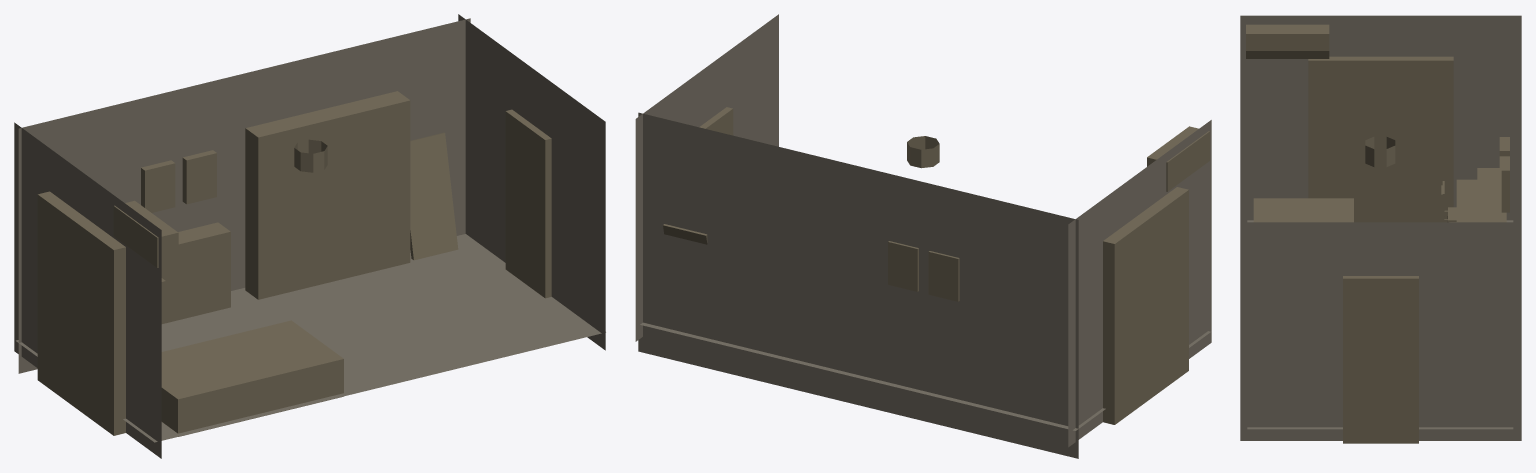
Rendered from homebedroom.fbx.
3 views of the same model, side by side, from view 1: azimuth 30°, elevation 25°; view 2: azimuth 150°, elevation 25°; view 3: azimuth 270°, elevation 25° (orthographic). The views are drawn at different scales.
Visible parts, largest first — view 1: pPlane54, pPlane53, pPlane60, pPlane64, pPlane57, pPlane56, pPlane55, pPlane63, pPlane58, pPlane62, pCylinder80, pPlane61 (+2 smaller); view 2: pPlane54, pPlane57, pPlane56, pPlane64, pCylinder80, pPlane53, pPlane59, pPlane61, pCylinder79, pPlane63; view 3: pPlane64, pPlane56, pPlane57, pPlane63, pCylinder80, pPlane55, pPlane60, polySurface58, pCylinder79, pPlane53, pPlane61.
Boxes of the visible parts, x1,y1,x2,y2 form: pPlane54: (18, 18, 470, 373); pPlane53: (16, 234, 605, 442); pPlane60: (245, 91, 410, 299); pPlane64: (458, 14, 605, 350); pPlane57: (37, 191, 125, 435); pPlane56: (14, 122, 161, 458); pPlane55: (161, 320, 343, 436); pPlane63: (505, 109, 551, 298); pPlane58: (161, 222, 230, 323); pPlane62: (410, 132, 458, 260); pCylinder80: (113, 200, 178, 267); pPlane61: (182, 150, 216, 204); pPlane54: (638, 112, 1078, 458); pPlane57: (1103, 187, 1188, 424); pPlane56: (1068, 120, 1211, 447); pPlane64: (635, 14, 778, 341); pCylinder80: (1147, 126, 1209, 191); pPlane53: (640, 322, 1210, 430); pPlane59: (928, 251, 959, 301); pPlane61: (888, 241, 918, 291); pCylinder79: (907, 136, 939, 168); pPlane63: (699, 107, 733, 135); pPlane64: (1240, 222, 1521, 440); pPlane56: (1240, 15, 1521, 222); pPlane57: (1308, 56, 1453, 222); pPlane63: (1343, 276, 1418, 443); pCylinder80: (1246, 24, 1329, 58); pPlane55: (1253, 198, 1353, 222); pPlane60: (1477, 168, 1501, 222); polySurface58: (1456, 179, 1506, 222); pCylinder79: (1365, 136, 1395, 167); pPlane53: (1247, 220, 1513, 429); pPlane61: (1499, 156, 1509, 212).
Size of the model in its own units: 7.76 by 3.94 by 4.28.
